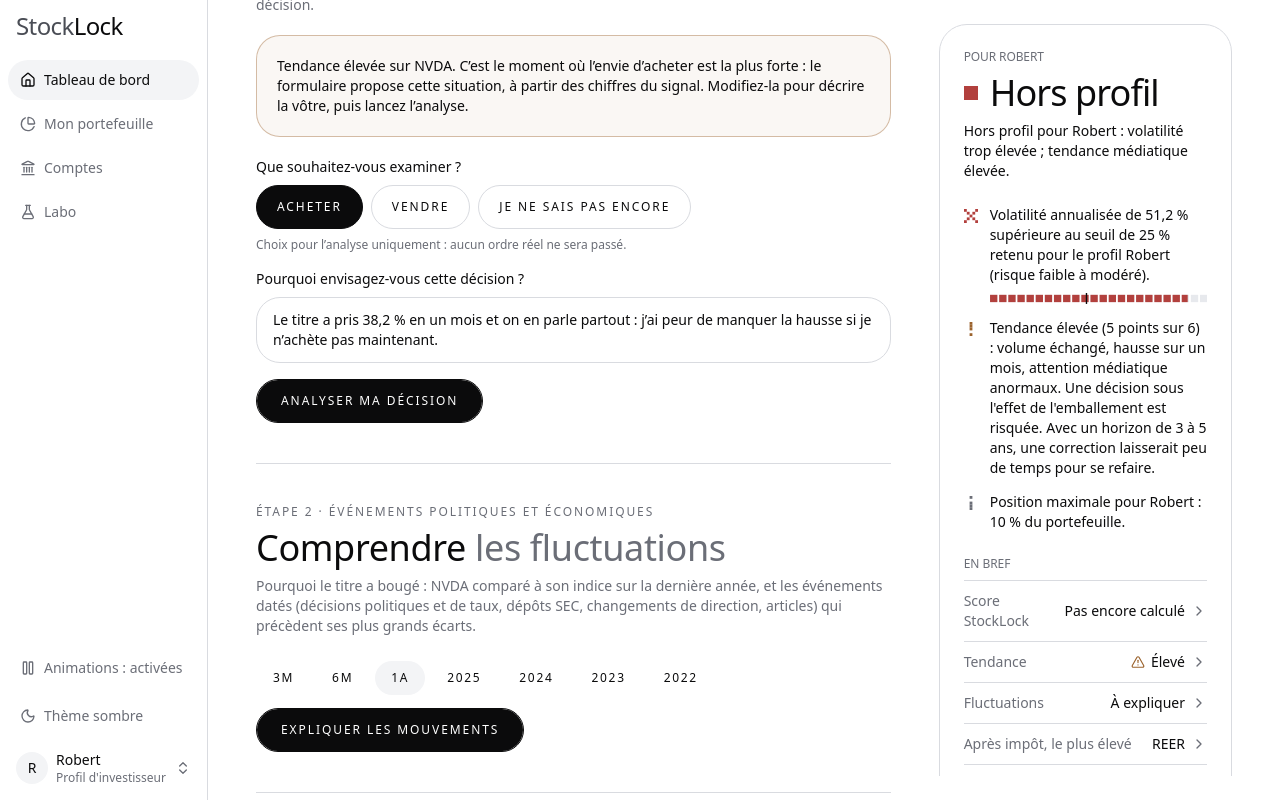
StockPage blocks › spells a high hype out for the profile and proposes the tempted buyer’s case to the bias analysis
(page scrolled)
Expected: the element that starts with "Tendance élevée sur" shows "Tendance élevée sur NVDA.", [256, 35, 891, 137]
Expected: the radio button labelled "Acheter" is checked, [256, 185, 363, 229]
Click the button "Analyser ma décision". click: x=370, y=401
box: [256, 379, 483, 423]
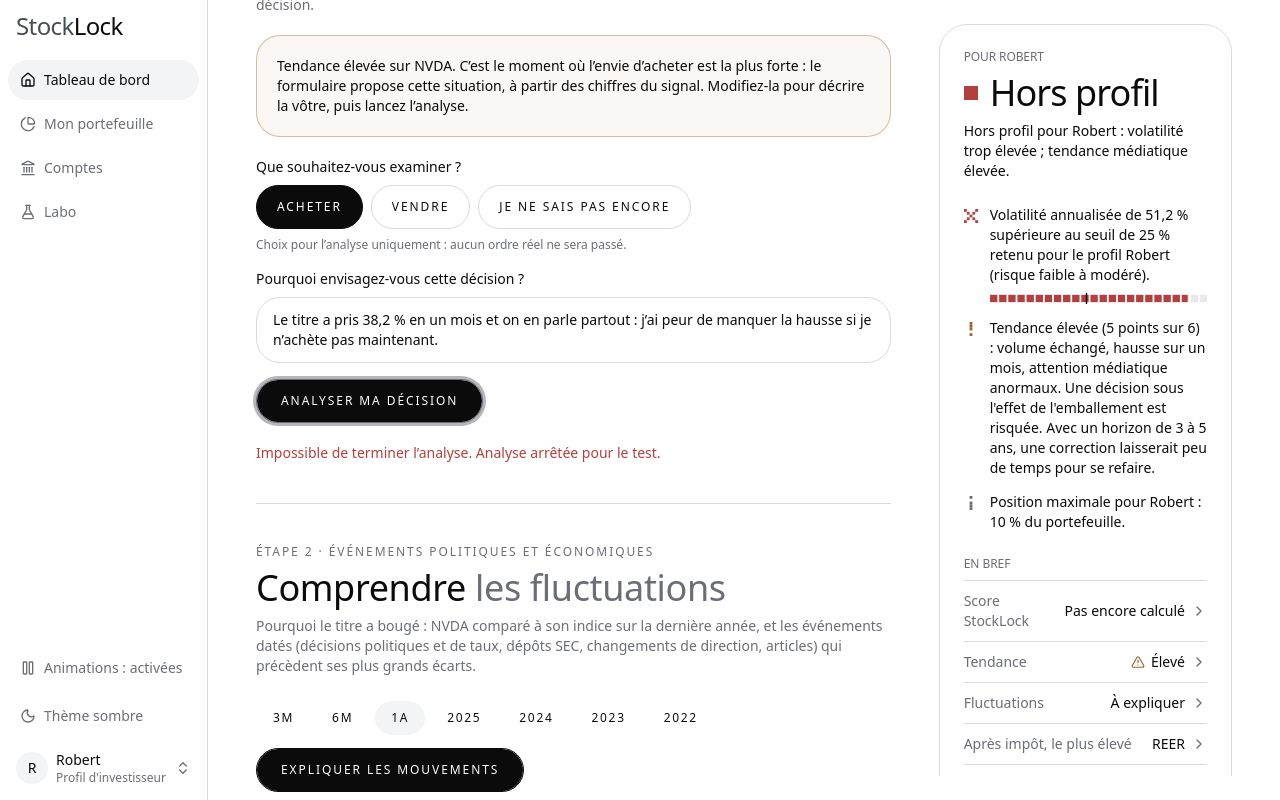
Expected: the text "Impossible de terminer l’analyse. Analyse arrêtée pour le test." is shown, [256, 443, 661, 462]
